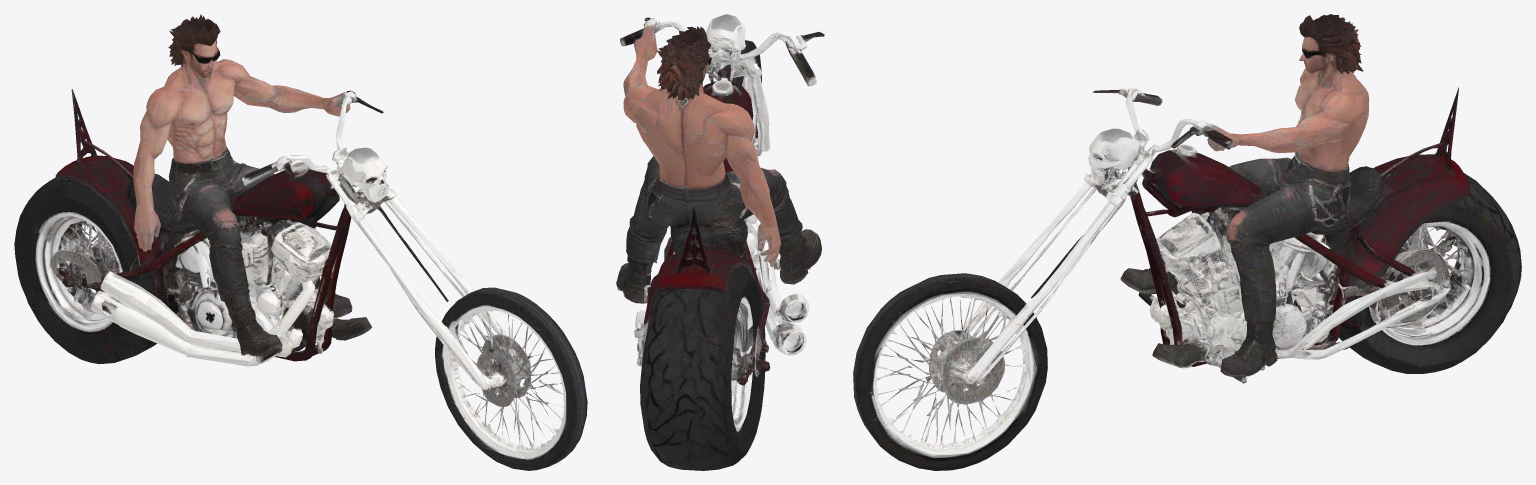
File: reaper-ai.glb
3 renders of one model, left to right at view 1: azimuth 30°, elevation 25°; view 2: azimuth 150°, elevation 25°; view 3: azimuth 270°, elevation 25°, orthographic. The views are drawn at different scales.
Visible parts, largest first — view 1: Mesh_0; view 2: Mesh_0; view 3: Mesh_0.
Boxes of the visible parts, x1,y1,x2,y2 form: Mesh_0: [14, 14, 587, 470]; Mesh_0: [616, 14, 824, 470]; Mesh_0: [853, 14, 1521, 470].
Bounding box in the file's own units: 0.9912 × 1.19 × 1.9.
1 material, 1 textured.
